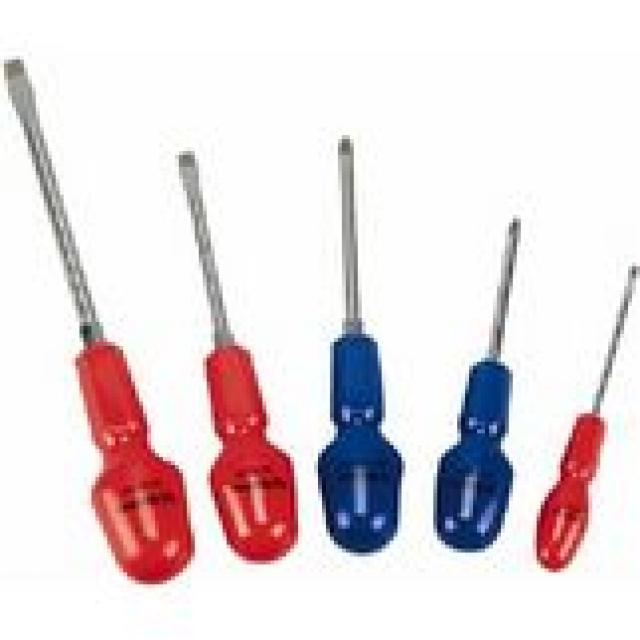screwdriver: (0, 46, 203, 594), (163, 137, 300, 567), (304, 120, 410, 556), (424, 204, 546, 566), (521, 260, 640, 576)
